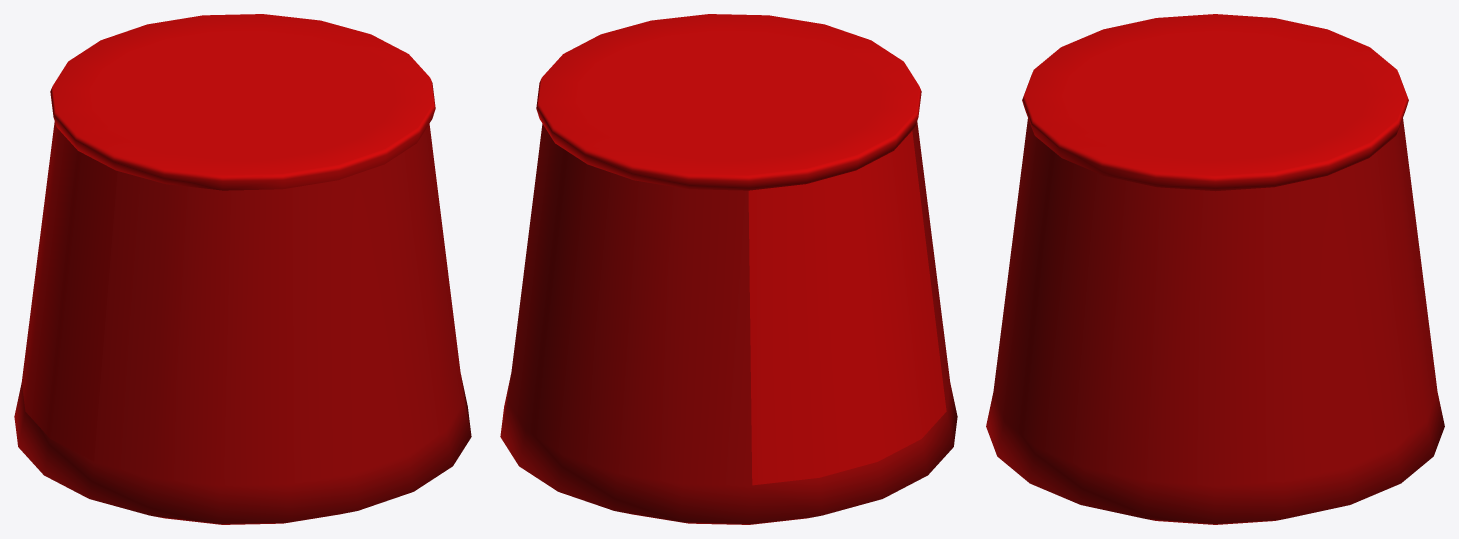
File: Circus_Pedestal_GEO.fbx
3 views of the same model, side by side, from view 1: azimuth 30°, elevation 25°; view 2: azimuth 150°, elevation 25°; view 3: azimuth 270°, elevation 25° (orthographic).
Visible parts, largest first — view 1: circus_Stand_GEO_mb_01; view 2: circus_Stand_GEO_mb_01; view 3: circus_Stand_GEO_mb_01.
Boxes of the visible parts, bbox=[...] form: circus_Stand_GEO_mb_01: bbox=[14, 14, 471, 524]; circus_Stand_GEO_mb_01: bbox=[500, 14, 957, 524]; circus_Stand_GEO_mb_01: bbox=[986, 14, 1444, 524].
Bounding box in the file's own units: 83.29 × 71.39 × 83.29.
